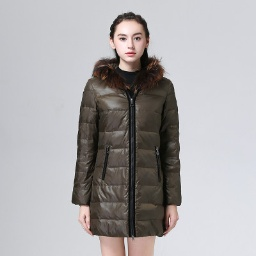face: (103, 9, 155, 72)
